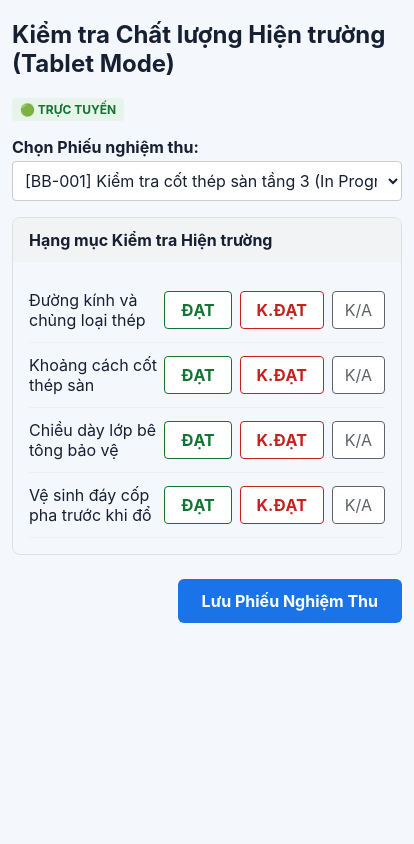
MobileSiteInspection Tablet Component › saves checklist results online via client
Click the button with test id "btn-pass-rebar_diameter" at (198, 310), box [164,291,232,329]
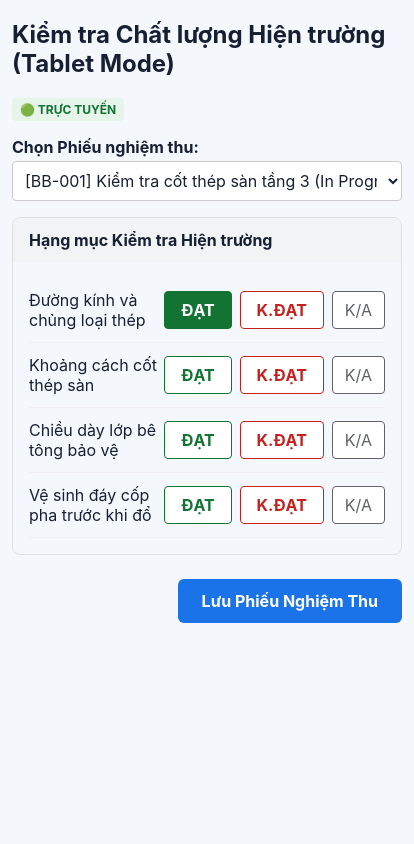
Click the button with test id "btn-save-inspection" at (290, 601), box [178,579,402,623]
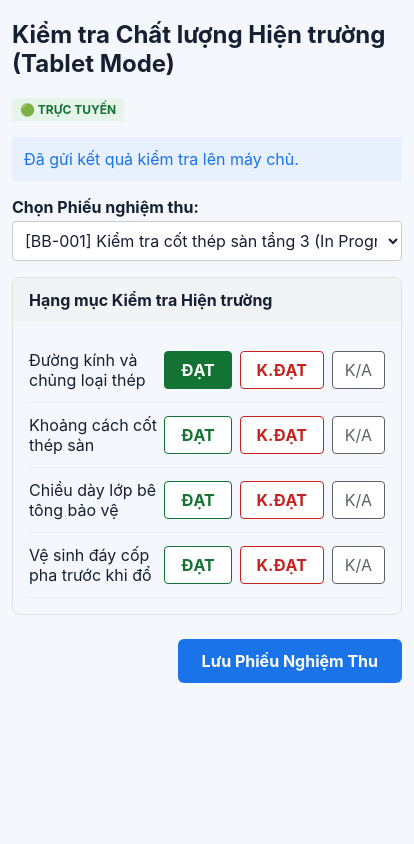
Check: the text with test id "status-message" shows "Đã gửi kết quả", box [24,149,299,169]
